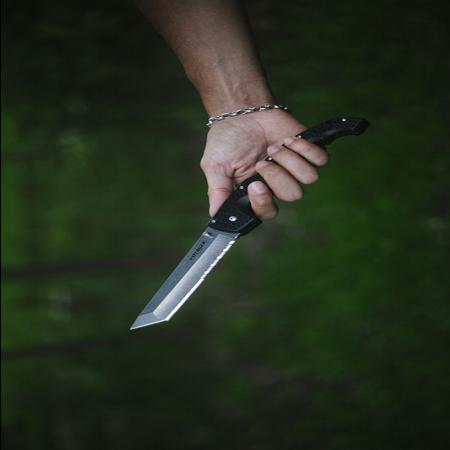long weapon: (118, 111, 372, 335)
